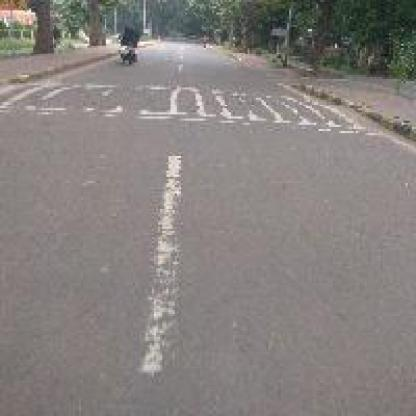Speed Bump: (0, 79, 373, 138)
